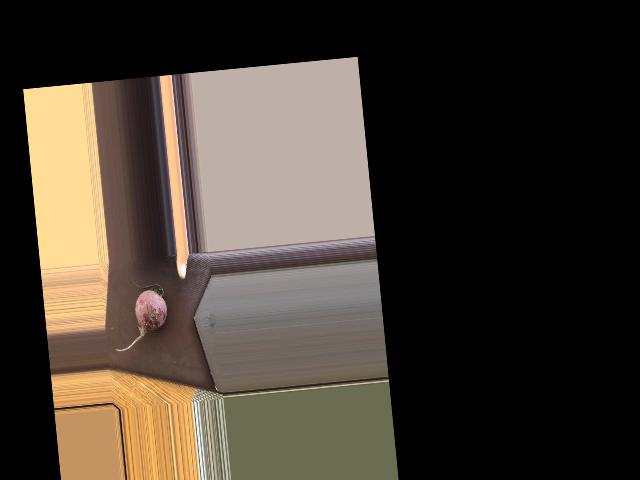beet: (109, 278, 170, 352)
